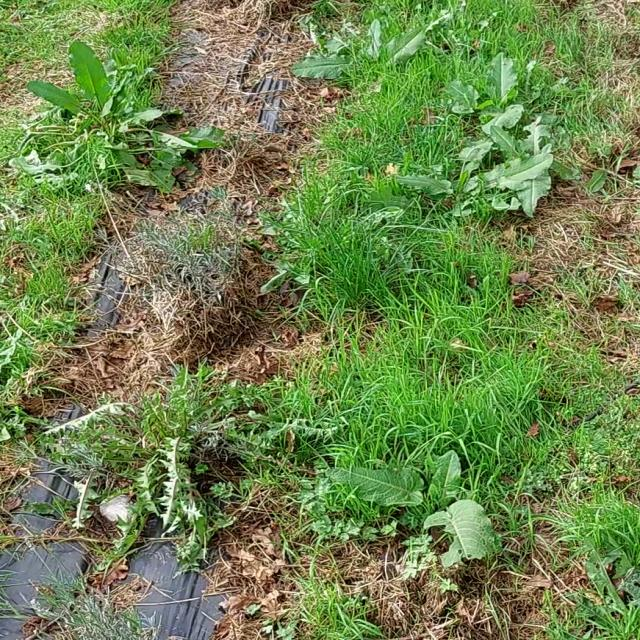organic waste: (12, 27, 234, 195), (333, 433, 527, 574), (353, 127, 590, 240), (312, 0, 465, 100), (470, 108, 598, 196), (437, 54, 539, 130)
